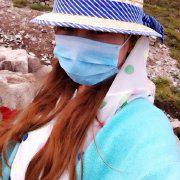OK: (51, 13, 128, 90)
